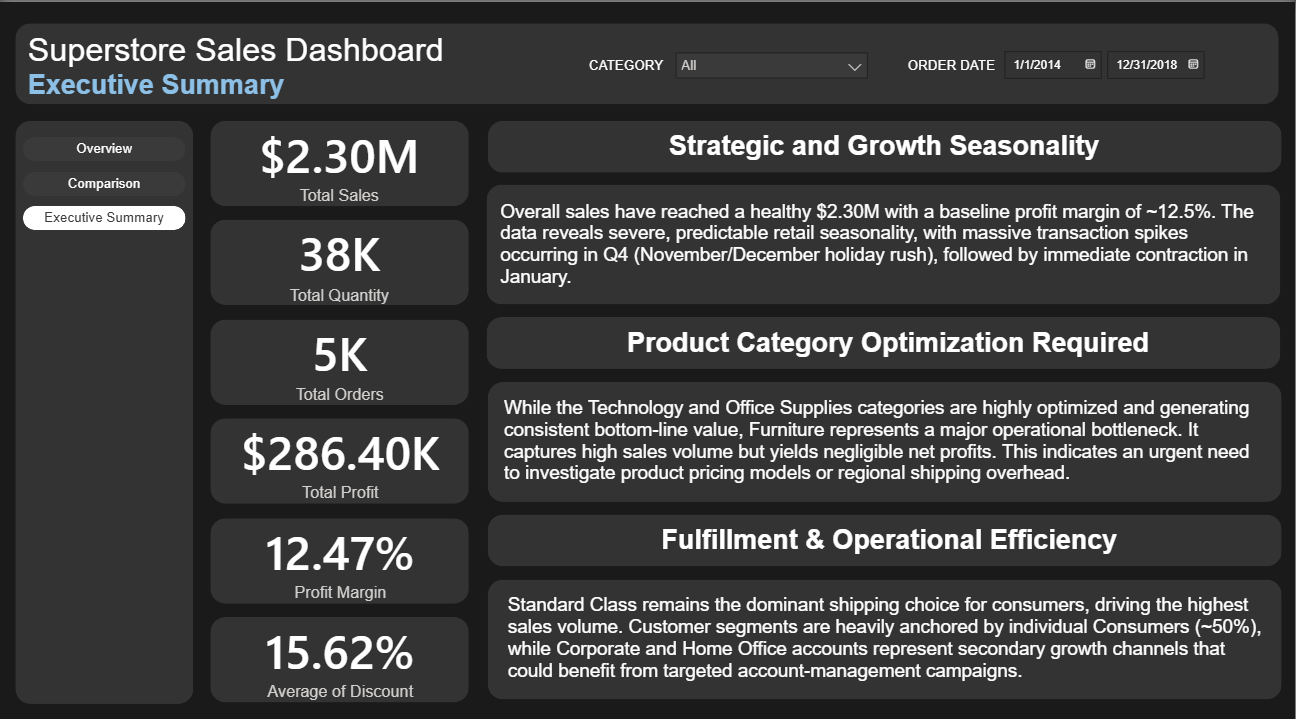

The dashboard page shown, as its layout file describes it:
{"tool":"powerbi","page":{"name":"Executive Summary","canvas":[1280,720],"ordinal":2},"visuals":[{"type":"shape","box":[16,20.8,1248,80],"z":0},{"type":"shape","box":[16,116.8,176,576],"z":1000},{"type":"shape","box":[208.9,116.7,255.6,84.4],"z":2000},{"type":"textbox","box":[23.3,24.4,503.3,51.1],"z":3000},{"type":"textbox","box":[23.3,62.2,300,54.4],"z":4000},{"type":"slicer","fields":{"Values":["Sample - Superstore.Category","Sample - Superstore.Sub-Category"]},"box":[657.7,39.4,210,47.9],"z":5000},{"type":"slicer","fields":{"Values":["Calendar.Date"]},"box":[980,38.6,226.4,47.9],"z":6000},{"type":"textbox","box":[578,50.8,108,32],"z":7000},{"type":"textbox","box":[892,50.8,108,32],"z":8000},{"type":"pageNavigator","box":[22.9,132.9,161.4,92.9],"z":9000},{"type":"shape","box":[482.9,117.1,784.3,51.4],"z":10000},{"type":"shape","box":[481.4,180.9,784.3,118.6],"z":11000},{"type":"shape","box":[481.4,311.7,784.3,51.4],"z":12000},{"type":"shape","box":[482.9,375.4,784.3,118.6],"z":13000},{"type":"shape","box":[482.9,570,784.3,118.6],"z":14000},{"type":"shape","box":[482.9,506.3,784.3,51.4],"z":15000},{"type":"textbox","box":[490,191.4,760,101.4],"z":16000},{"type":"textbox","box":[494.3,385.7,760,97.1],"z":17000},{"type":"textbox","box":[497.1,580,755.7,97.1],"z":18000},{"type":"textbox","box":[482.5,122.5,783.3,40],"z":19000},{"type":"textbox","box":[482.5,317.5,783.3,40],"z":20000},{"type":"textbox","box":[483.3,511.7,783.3,40],"z":21000},{"type":"shape","box":[208.9,607.8,255.6,84.4],"z":22000},{"type":"shape","box":[208.9,509.6,255.6,84.4],"z":23000},{"type":"shape","box":[208.9,411.3,255.6,84.4],"z":24000},{"type":"shape","box":[208.9,313.1,255.6,84.4],"z":25000},{"type":"shape","box":[208.9,214.9,255.6,84.4],"z":26000},{"type":"cardVisual","fields":{"Data":["Sample - Superstore.Total Sales"]},"box":[208.9,116.7,255.6,84.4],"z":27000},{"type":"cardVisual","fields":{"Data":["Sample - Superstore.Total Quantity"]},"box":[208.9,214.4,255.6,85.6],"z":28000},{"type":"cardVisual","fields":{"Data":["Sample - Superstore.Total Orders"]},"box":[208.9,313.3,256.7,84.4],"z":29000},{"type":"cardVisual","fields":{"Data":["Sample - Superstore.Total Profit"]},"box":[208.9,411.1,257.8,84.4],"z":30000},{"type":"cardVisual","fields":{"Data":["Sample - Superstore.Profit Margin"]},"box":[208.9,510,257.8,84.4],"z":31000},{"type":"cardVisual","fields":{"Data":["Avg(Sample - Superstore.Discount)"]},"box":[208.9,607.8,257.8,84.4],"z":32000}]}

Visuals, with their boxes in screenshot pixels (x1, y1, x2, y2), scaled from the page's 1280x720 canvas onto the 1296x719 screenshot:
shape: 16:21:1280:101
shape: 16:117:194:692
shape: 212:117:470:201
textbox: 24:24:533:75
textbox: 24:62:327:116
slicer - Sample - Superstore.Category x Sample - Superstore.Sub-Category: 666:39:879:87
slicer - Calendar.Date: 992:39:1221:86
textbox: 585:51:695:83
textbox: 903:51:1012:83
pageNavigator: 23:133:187:225
shape: 489:117:1283:168
shape: 487:181:1282:299
shape: 487:311:1282:363
shape: 489:375:1283:493
shape: 489:569:1283:688
shape: 489:506:1283:557
textbox: 496:191:1266:292
textbox: 500:385:1270:482
textbox: 503:579:1268:676
textbox: 489:122:1282:162
textbox: 489:317:1282:357
textbox: 489:511:1282:551
shape: 212:607:470:691
shape: 212:509:470:593
shape: 212:411:470:495
shape: 212:313:470:397
shape: 212:215:470:299
cardVisual - Sample - Superstore.Total Sales: 212:117:470:201
cardVisual - Sample - Superstore.Total Quantity: 212:214:470:300
cardVisual - Sample - Superstore.Total Orders: 212:313:471:397
cardVisual - Sample - Superstore.Total Profit: 212:411:473:495
cardVisual - Sample - Superstore.Profit Margin: 212:509:473:594
cardVisual - Avg(Sample - Superstore.Discount): 212:607:473:691
